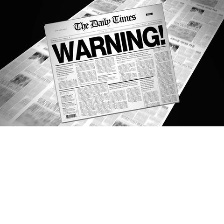news_paper: (0, 0, 223, 126), (43, 1, 184, 123)
